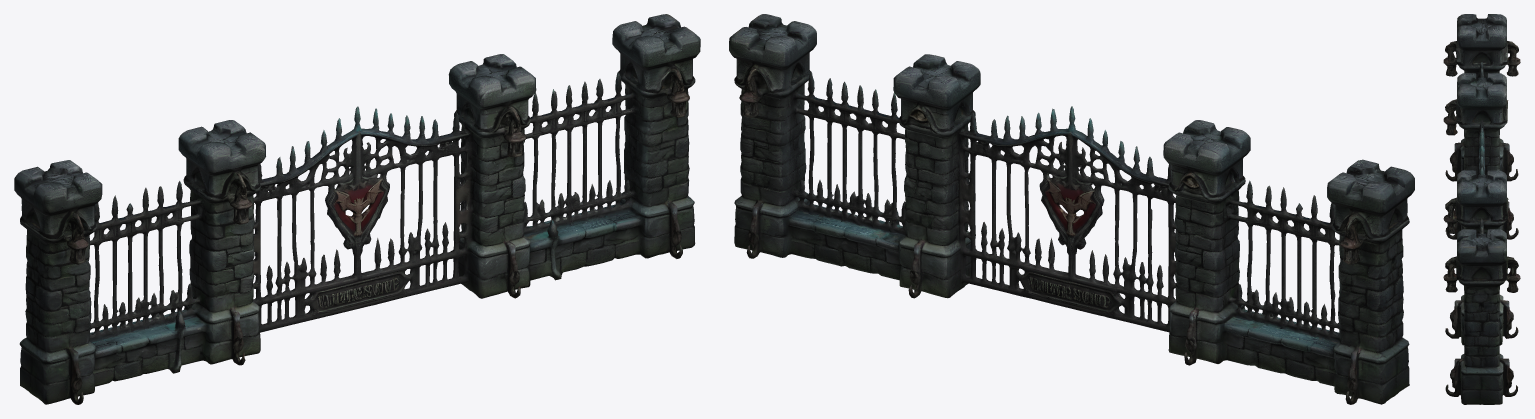
3 renders of one model, left to right at view 1: azimuth 30°, elevation 25°; view 2: azimuth 150°, elevation 25°; view 3: azimuth 270°, elevation 25°, orthographic. The views are drawn at different scales.
Parts seen in each view (by area): view 1: Mesh_0.001; view 2: Mesh_0.001; view 3: Mesh_0.001.
Part boxes in pixels (left/top/right/bottom): Mesh_0.001: left=14, top=14, right=700, bottom=404; Mesh_0.001: left=729, top=14, right=1414, bottom=404; Mesh_0.001: left=1443, top=14, right=1520, bottom=404.
Bounding box in the file's own units: 317 × 100 × 43.61.
Materials: 1 (1 with a texture image).
